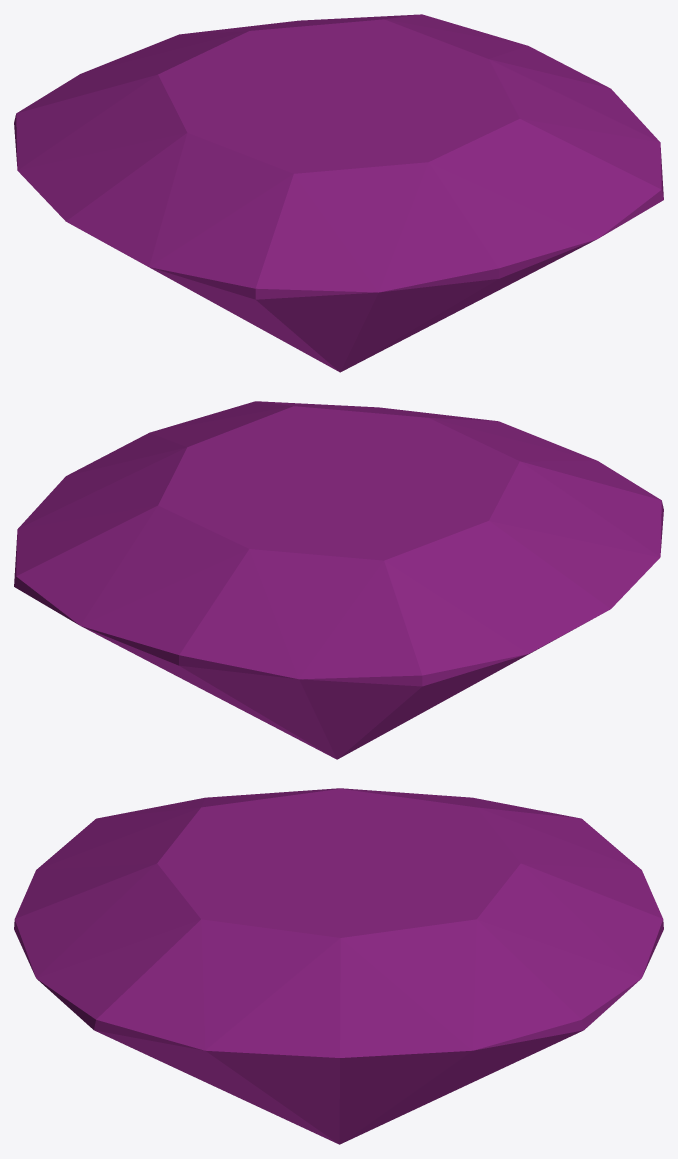
The model's file is Gem007.fbx.
3 views of the same model, one above another, from view 1: azimuth 30°, elevation 25°; view 2: azimuth 150°, elevation 25°; view 3: azimuth 270°, elevation 25° (orthographic).
Visible parts, largest first — view 1: Gem007; view 2: Gem007; view 3: Gem007.
Part boxes in pixels (left/top/right/bottom): Gem007: left=14, top=14, right=663, bottom=372; Gem007: left=14, top=401, right=663, bottom=759; Gem007: left=14, top=788, right=663, bottom=1144.
Bounding box in the file's own units: 248 × 120 × 252.
